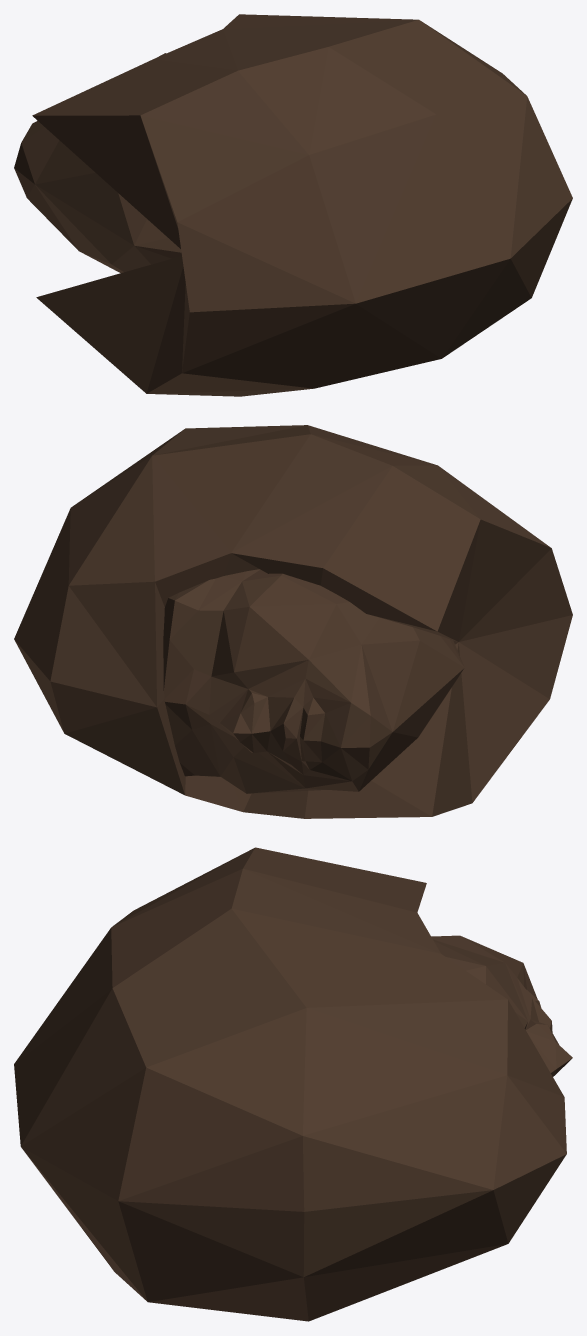
File: HUM_HEAD_BABE4.OBJ
3 views of the same model, one above another, from view 1: azimuth 30°, elevation 25°; view 2: azimuth 150°, elevation 25°; view 3: azimuth 270°, elevation 25° (orthographic). The views are drawn at different scales.
Parts seen in each view (by area): view 1: HUM_HEAD_BABE4; view 2: HUM_HEAD_BABE4; view 3: HUM_HEAD_BABE4.
Part boxes in pixels (box(x1,y1,x2,y2)): HUM_HEAD_BABE4: box(14, 14, 572, 396); HUM_HEAD_BABE4: box(14, 425, 572, 818); HUM_HEAD_BABE4: box(14, 847, 572, 1321).
Size of the model in its own units: 0.2853 by 0.2147 by 0.2839.
